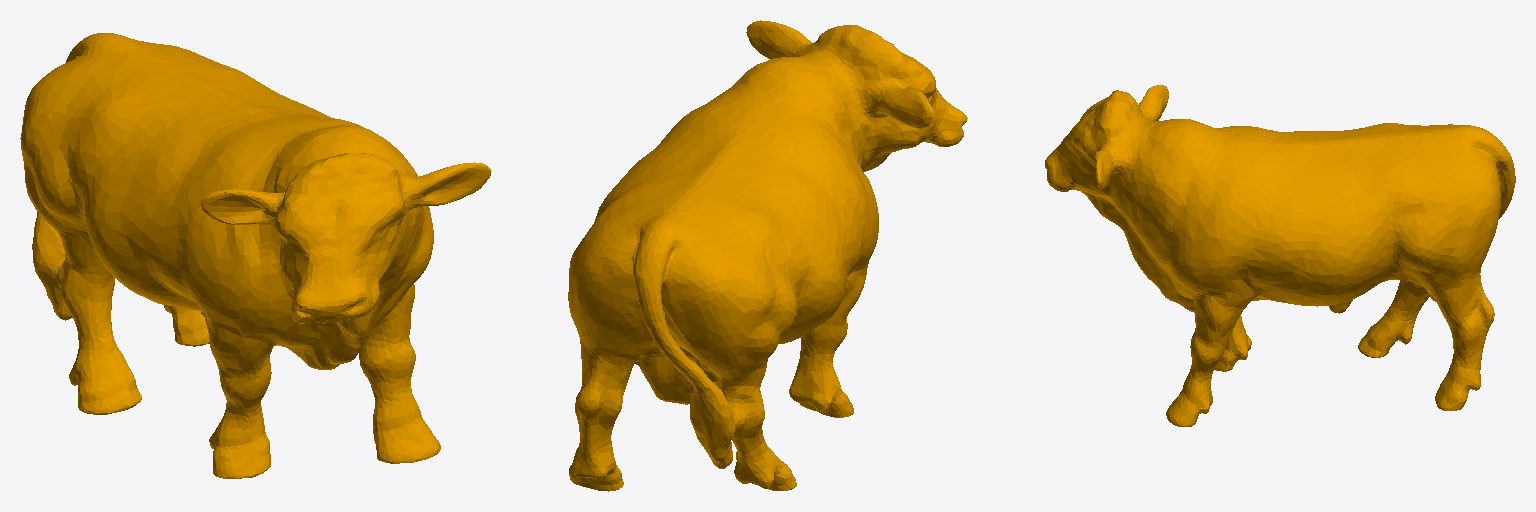
URDF robot description (z73ltdbb):
<?xml version='1.0'?>

<robot name="z73ltdbb">
    <static>false</static>
    <link name="link">
        <inertial>
            <mass value="0.07123713112665264"/>
            <inertia ixx="8.76925564426809e-05" ixy="4.777300037817883e-06" ixz="-1.343881377982744e-08"
                     iyy="3.3681299560764776e-05" iyz="6.594393937583518e-06" izz="8.742066694262115e-05"/>
        </inertial>
        <collision name="collision">
            <geometry>
                <mesh filename="package://miscnet/train/z73ltdbb/collision_model_vhacd.obj"/>
            </geometry>
        </collision>
        <visual name="visual">
            <geometry>
                <mesh filename="package://miscnet/train/z73ltdbb/visual_model.obj"/>
            </geometry>
        </visual>
    </link>
</robot>

--- What the picture shows (computed from the rendered views, not written in the file) ---
The picture shows the robot from 3 angles, left to right: view 1: azimuth 30°, elevation 25°; view 2: azimuth 150°, elevation 25°; view 3: azimuth 270°, elevation 25°; orthographic projection.
Model z73ltdbb with 1 links and 0 joints (none), rooted at link, posed every joint at zero.
Visible links, largest first — view 1: link; view 2: link; view 3: link.
Link boxes in pixels (bbox=[...]): link: bbox=[20, 33, 491, 478]; link: bbox=[568, 20, 967, 491]; link: bbox=[1045, 85, 1515, 426].
Bounding box of the posed robot: 0.07 × 0.1398 × 0.0914 m (x, y, z).
Meshes: 1 distinct files referenced, 1 mesh visuals loaded (1 OBJ).
